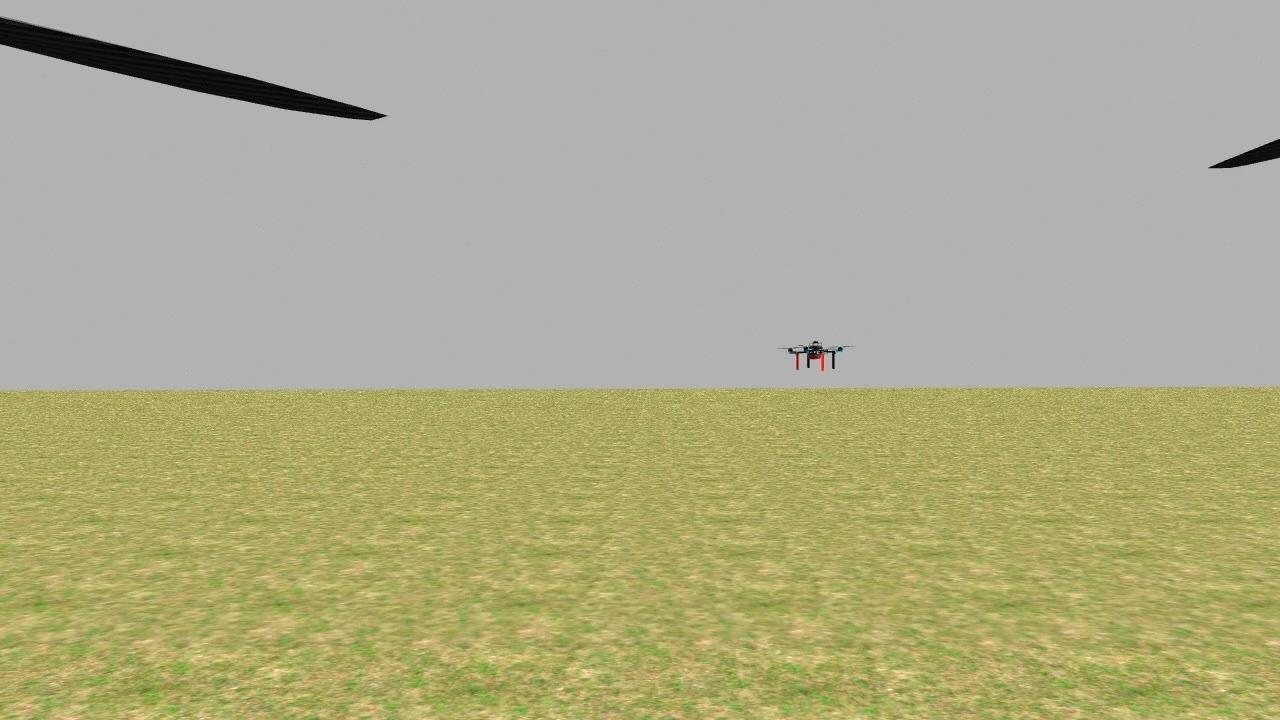UAV: (778, 328, 854, 387)
